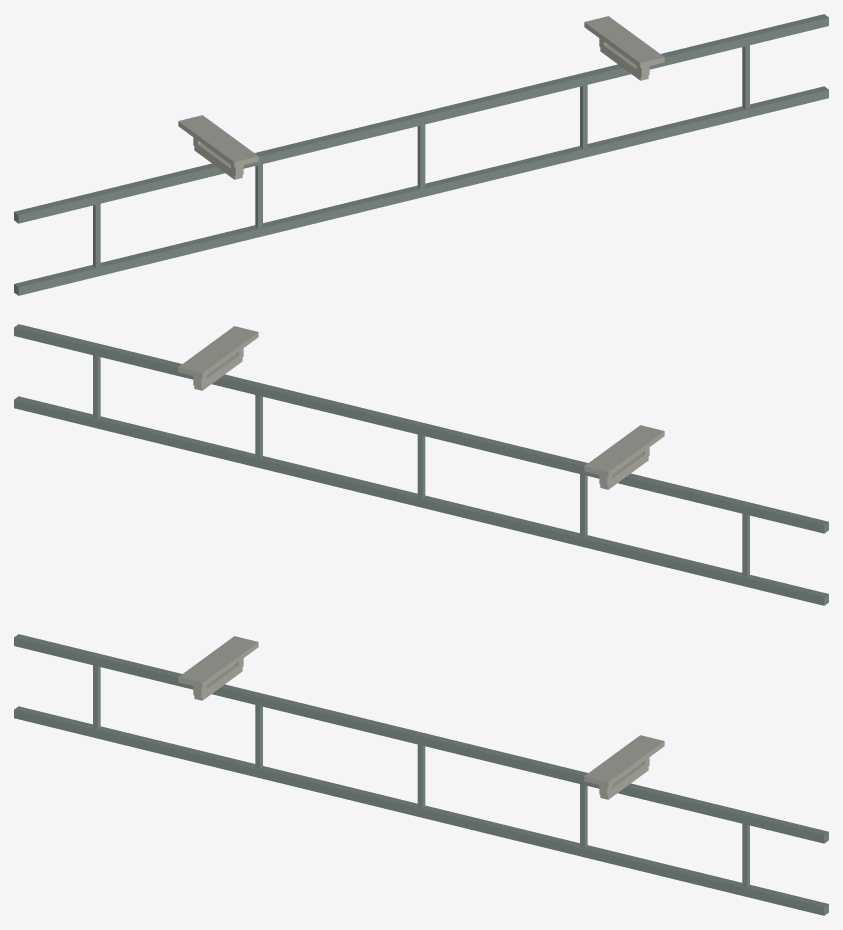
File: SM_CatenariaLosa_v1_Flexible_LOD0.fbx
3 renders of one model, top to bottom at view 1: azimuth 30°, elevation 25°; view 2: azimuth 150°, elevation 25°; view 3: azimuth 330°, elevation 25°, orthographic.
Visible parts, largest first — view 1: SM_catenaria_losa_v1_LOD0; view 2: SM_catenaria_losa_v1_LOD0; view 3: SM_catenaria_losa_v1_LOD0.
Boxes of the visible parts, x1,y1,x2,y2 form: SM_catenaria_losa_v1_LOD0: (14,14,828,295); SM_catenaria_losa_v1_LOD0: (14,324,828,605); SM_catenaria_losa_v1_LOD0: (14,634,828,915).
Size of the model in its own units: 9.98 by 1.25 by 1.2.
